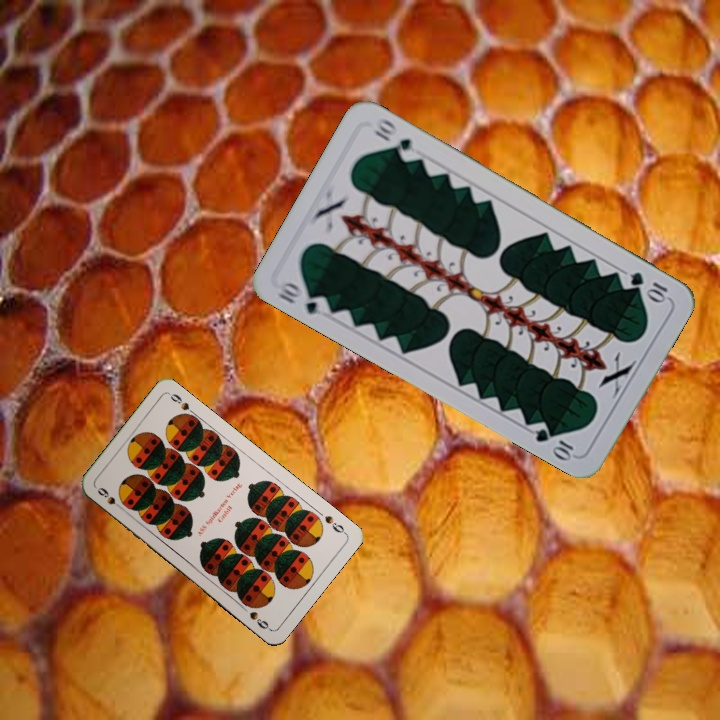G10: (273, 277, 332, 319), (626, 267, 671, 305)
S9: (93, 483, 127, 513), (320, 511, 349, 537)
